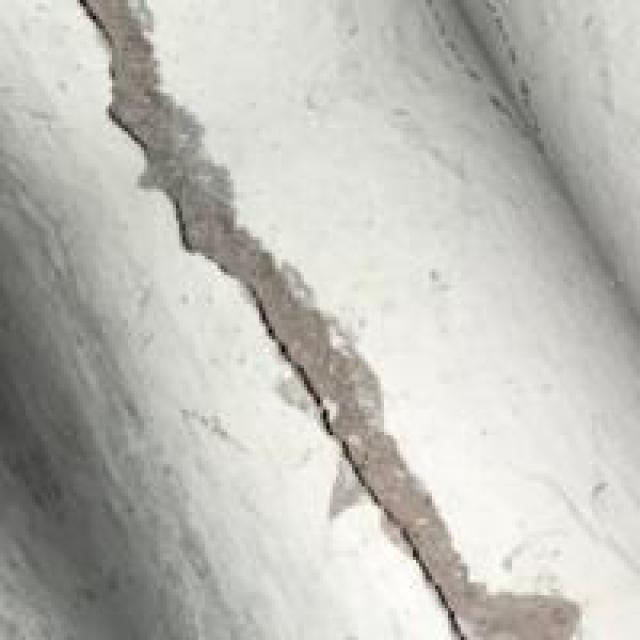crack: (48, 0, 554, 637)
